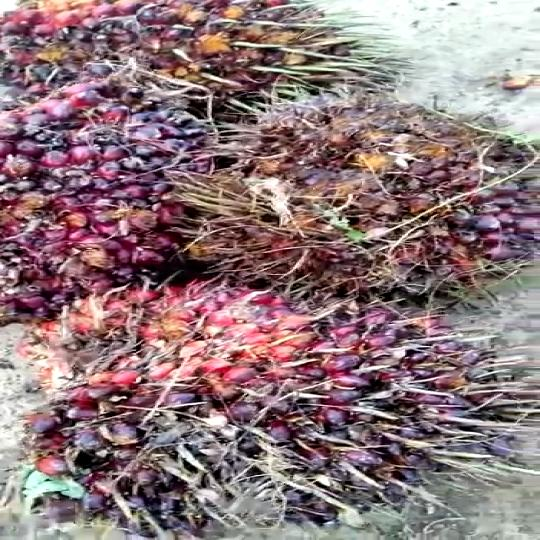masak: (7, 279, 540, 540), (191, 87, 540, 312)
